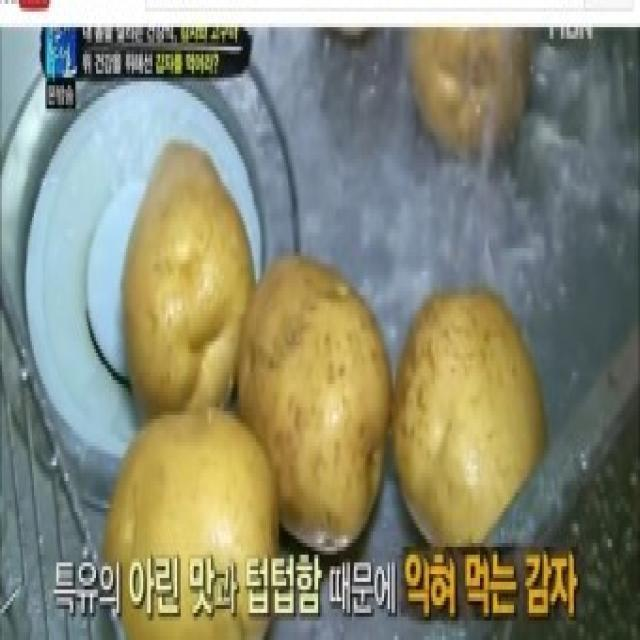potato: (235, 243, 391, 558), (391, 281, 554, 560), (103, 410, 283, 640), (121, 134, 252, 428), (408, 26, 536, 162)
